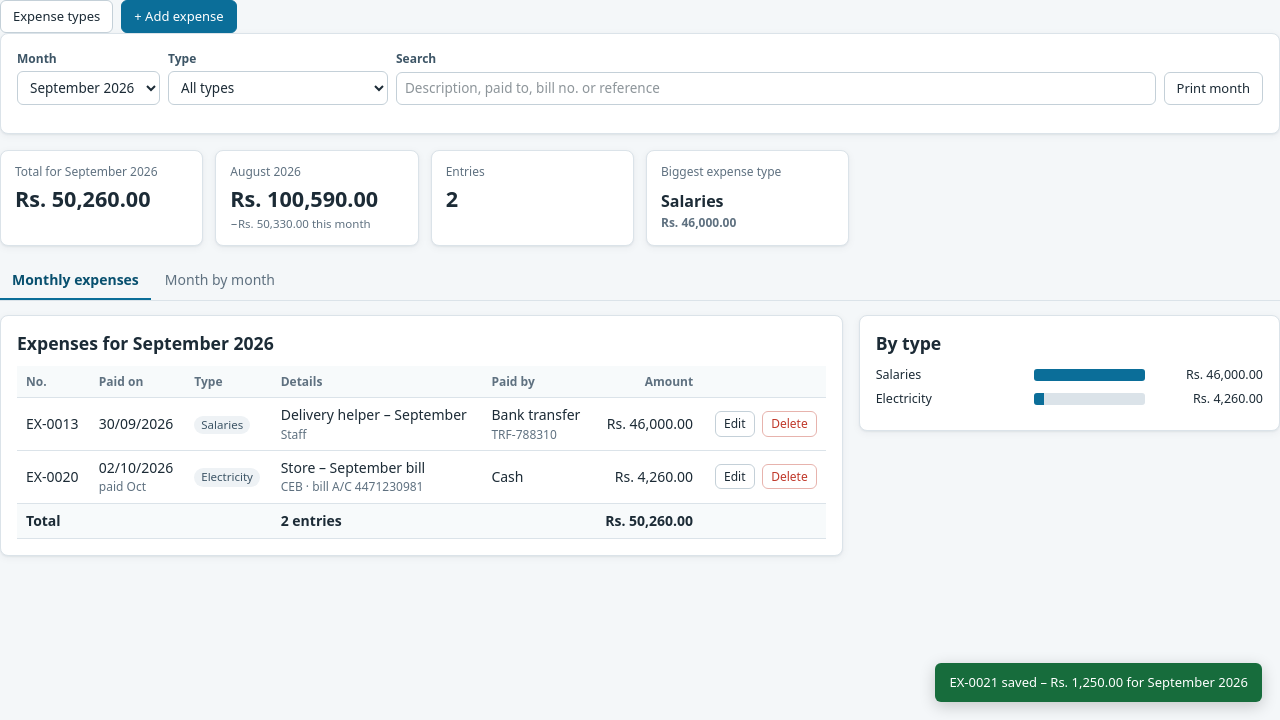
it: Expenses › edits with the version and deletes with a reason
Click the button "Edit" in the row of "EX-0020" at (735, 477), box [715, 464, 754, 490]
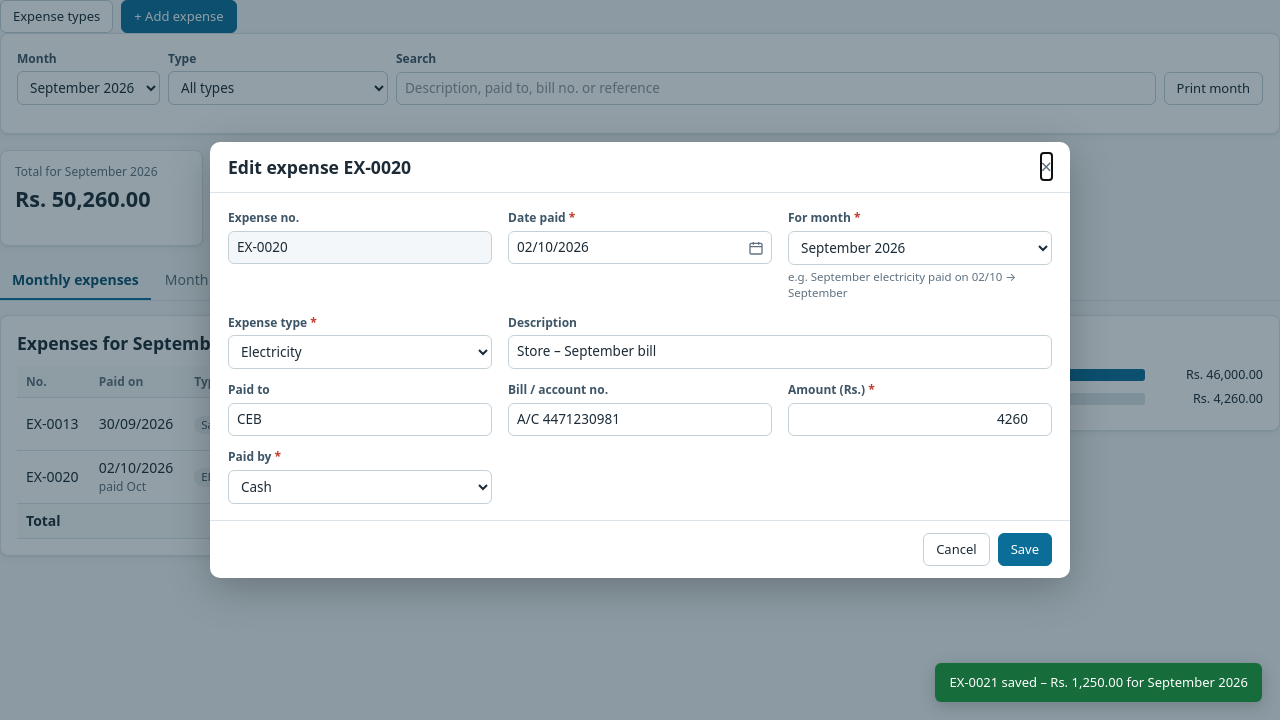
Replace the text in the number field labelled "Amount (Rs.)" with "4300" at (920, 420), box [788, 403, 1052, 436]
Click the button "Save" at (1025, 549), box [998, 533, 1052, 566]
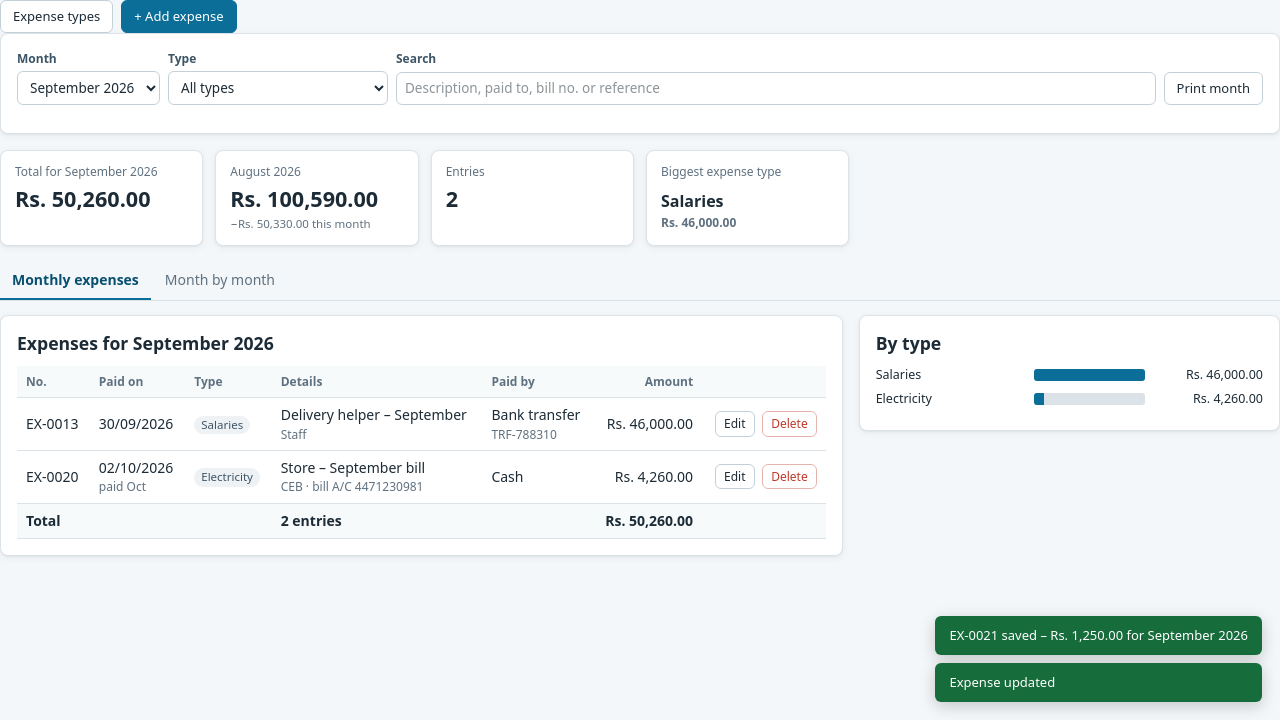
Expected: the text "Expense updated" is shown, [935, 663, 1262, 702]
Click the button "Delete" in the row of "EX-0020" at (789, 477), box [762, 464, 817, 490]
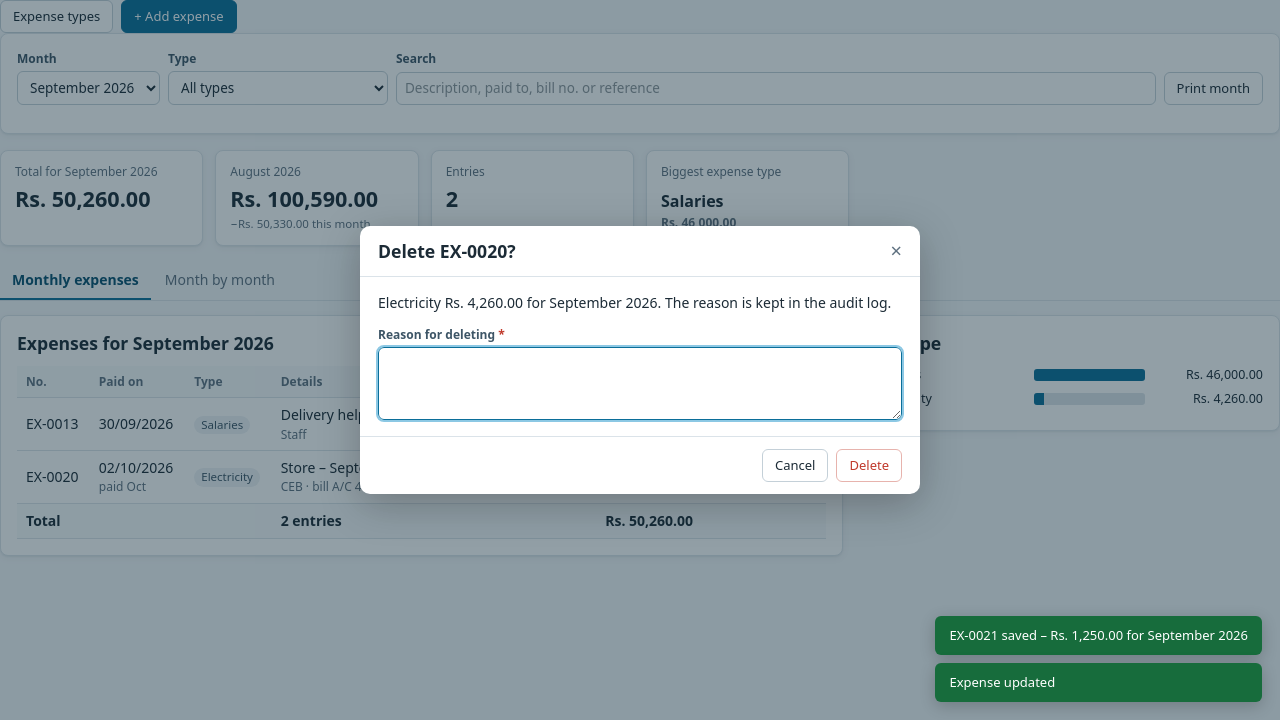
Expected: the dialog "Delete EX-0020?" shows "Electricity Rs. 4,260.00 for September 2026", [360, 226, 920, 494]
Click the button "Delete" at (869, 465), box [836, 449, 902, 482]
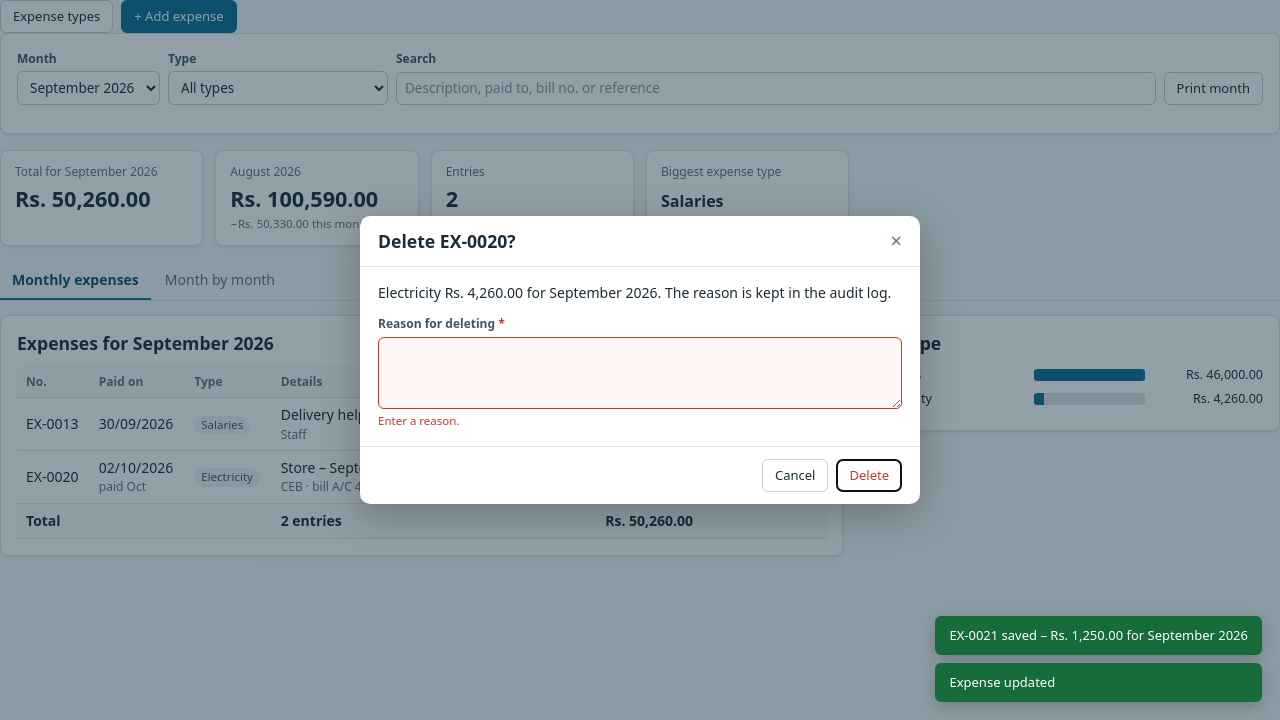
Expected: the text "Enter a reason." is shown, [378, 413, 459, 428]
Type "Entered twice" into the text box labelled "Reason for deleting" at (640, 373), box [378, 337, 902, 409]
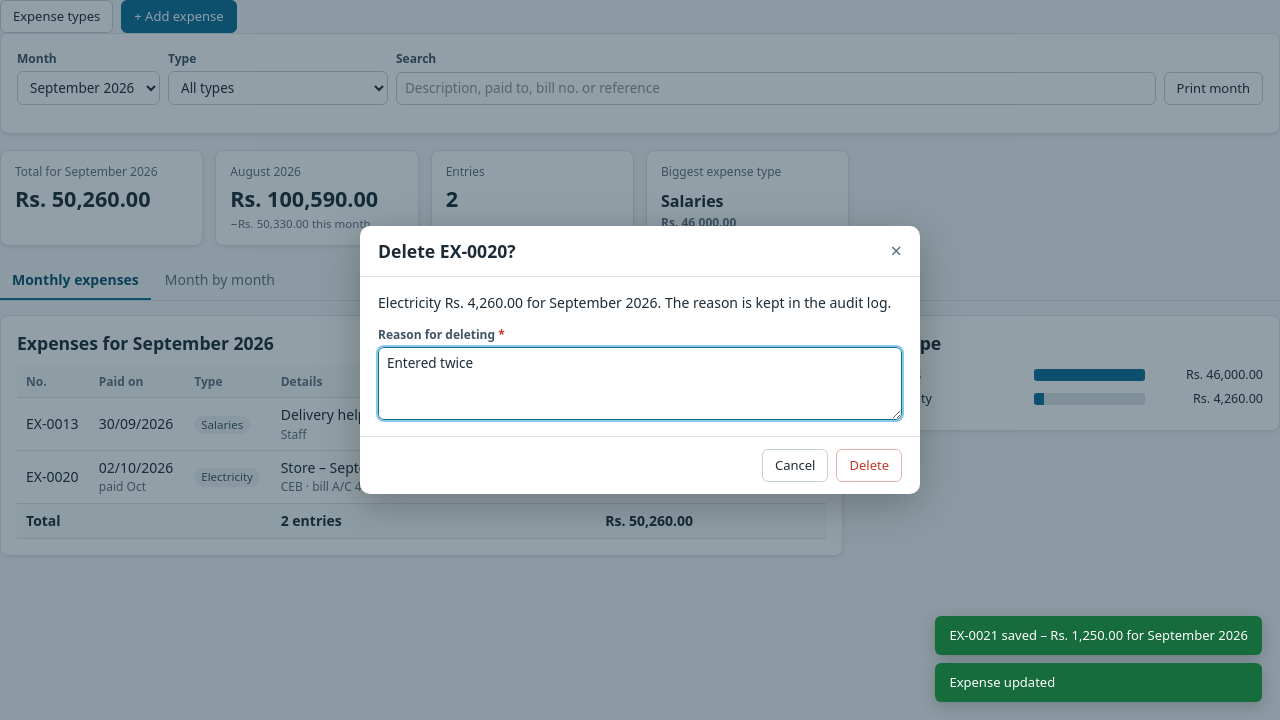
Click the button "Delete" at (869, 465), box [836, 449, 902, 482]
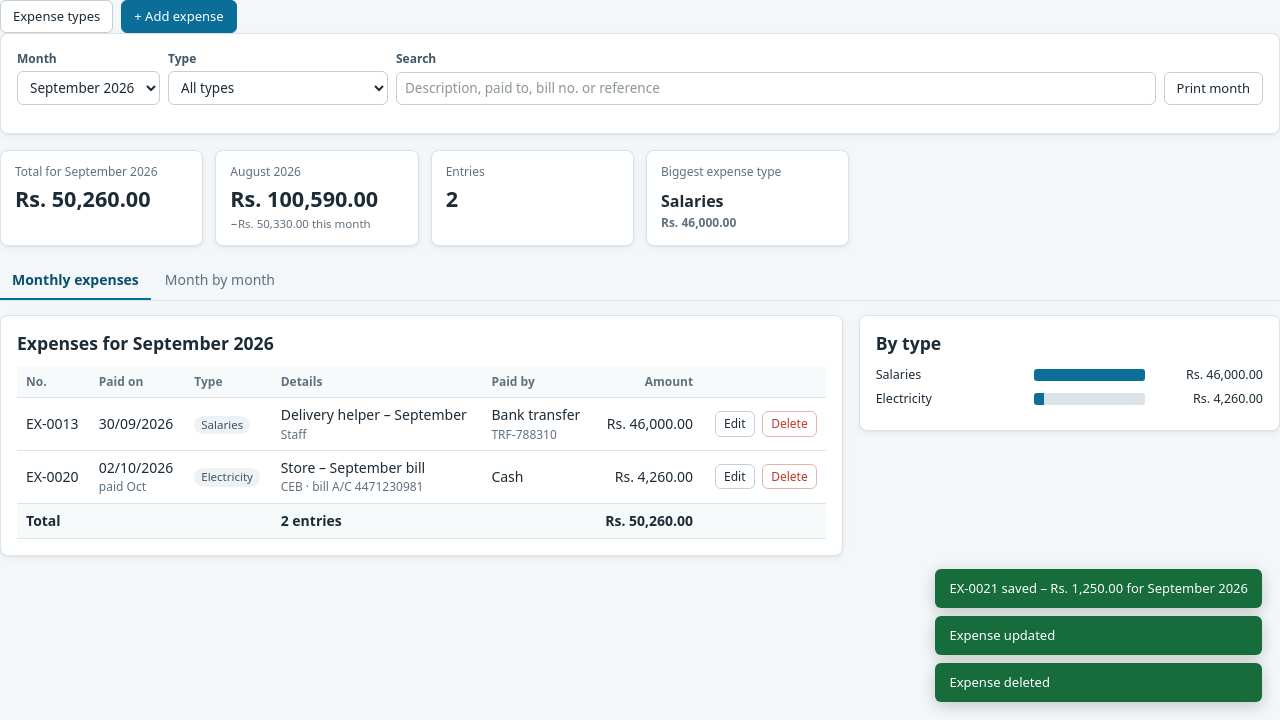
Expected: the text "Expense deleted" is shown, [935, 663, 1262, 702]
